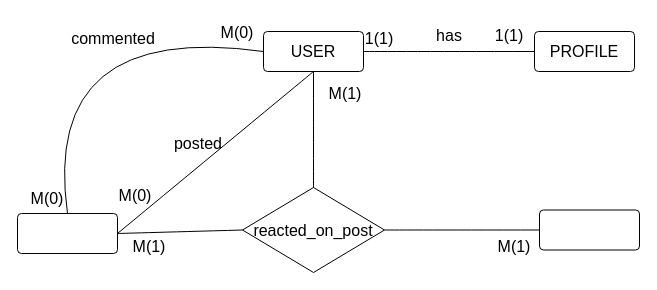
Image size: 657x290. Some labels were removed from this diagram. Here are the shapes that lost their labels. From the top down, the centre of each, then its label:
At (x=67, y=233): "POST".
At (x=589, y=229): "REACT".
